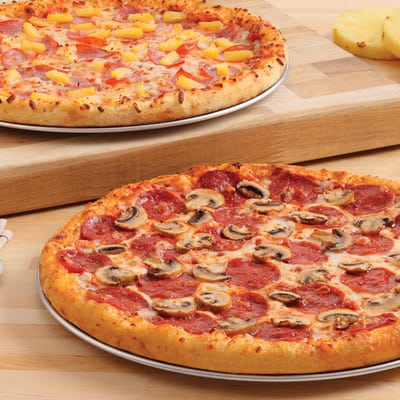curry: (2, 0, 400, 394)
sandwich: (43, 162, 399, 375), (0, 0, 286, 129)
